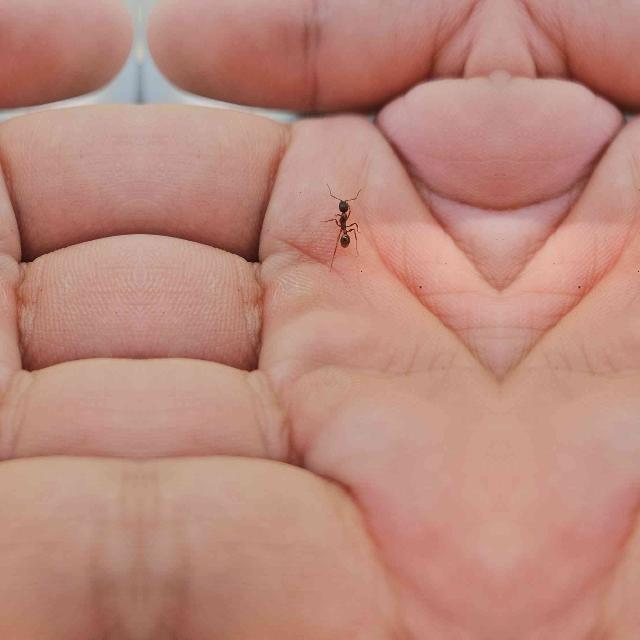Apheanogaster: (326, 182, 360, 258)
